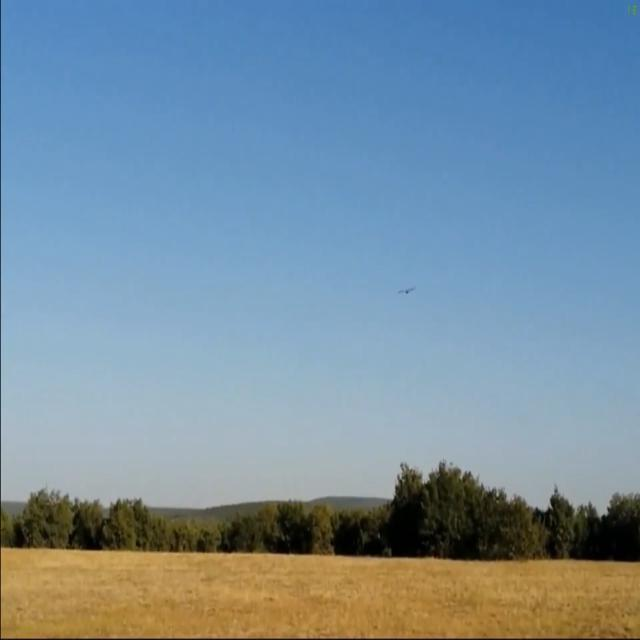UAV: (394, 279, 418, 303)
